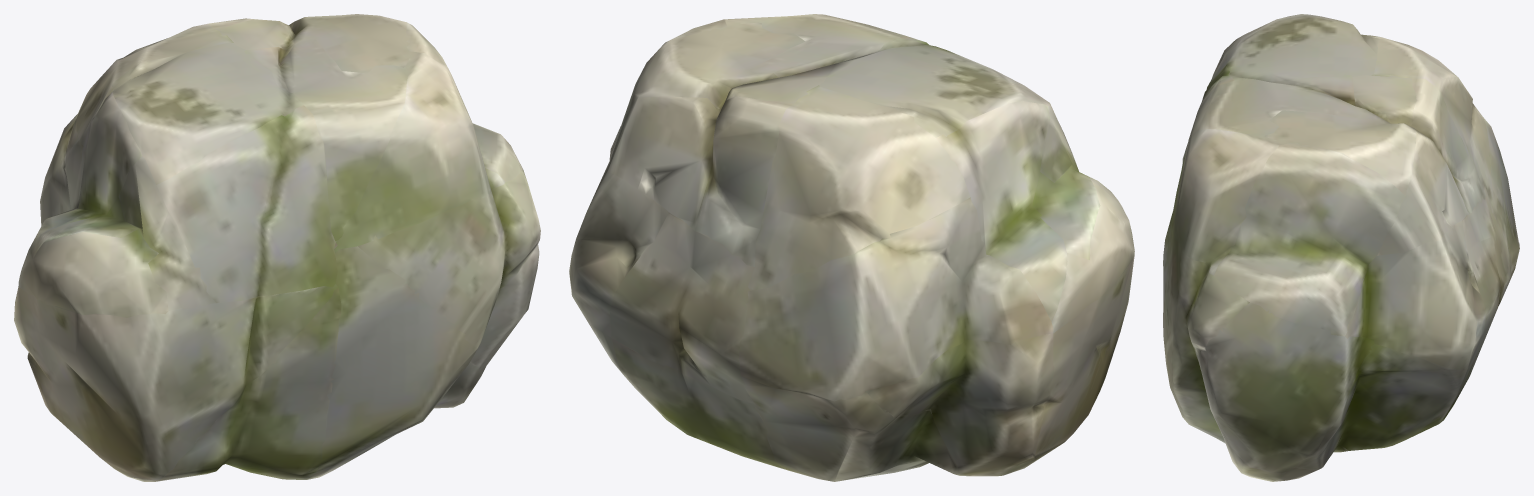
Rendered from limestone-boulder.glb.
The picture shows the model from 3 angles, left to right: view 1: azimuth 30°, elevation 25°; view 2: azimuth 150°, elevation 25°; view 3: azimuth 270°, elevation 25°; orthographic projection. The views are drawn at different scales.
Size of the model in its own units: 1.9 by 1.53 by 1.35.
Materials: 1 (1 with a texture image).
